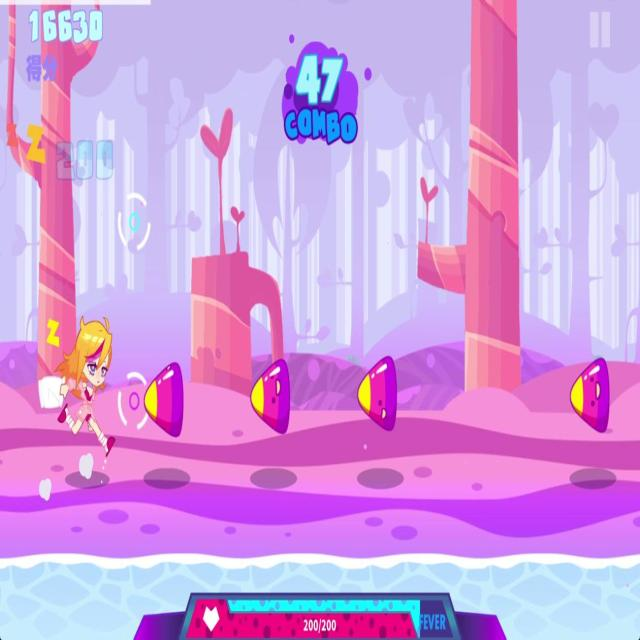jian: (248, 351, 295, 441), (352, 348, 401, 434), (144, 356, 188, 445), (569, 353, 613, 438)
